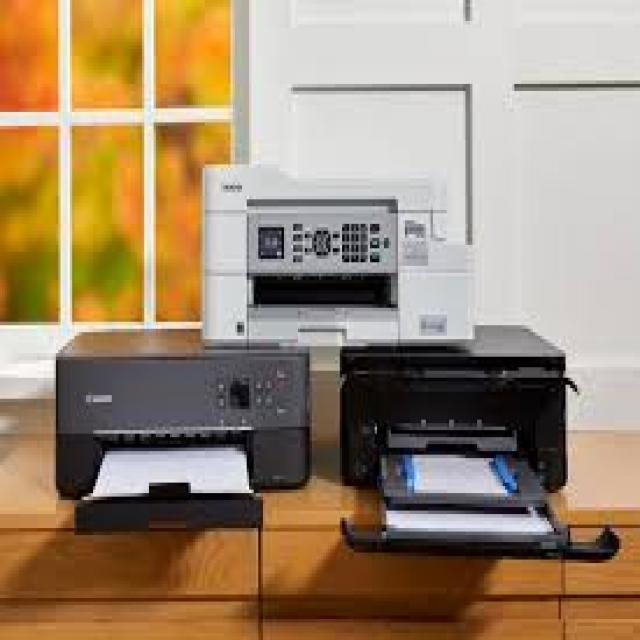printer: (192, 136, 482, 364), (330, 315, 589, 564), (57, 321, 312, 534)
